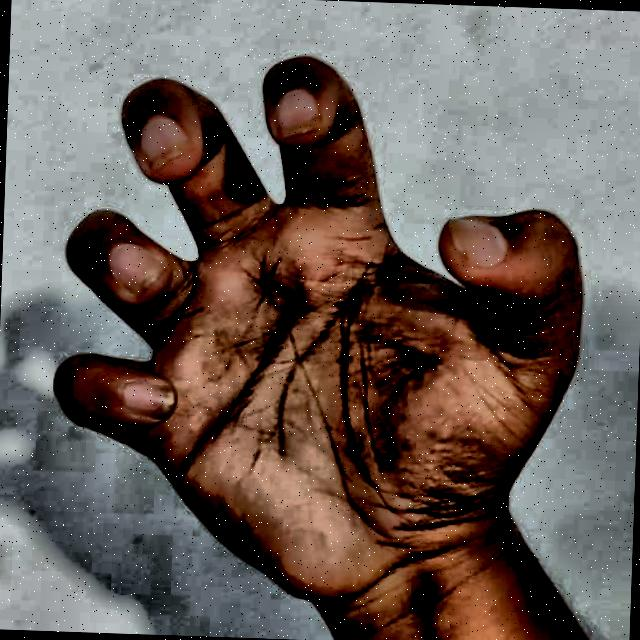Ja: (24, 17, 608, 640)
